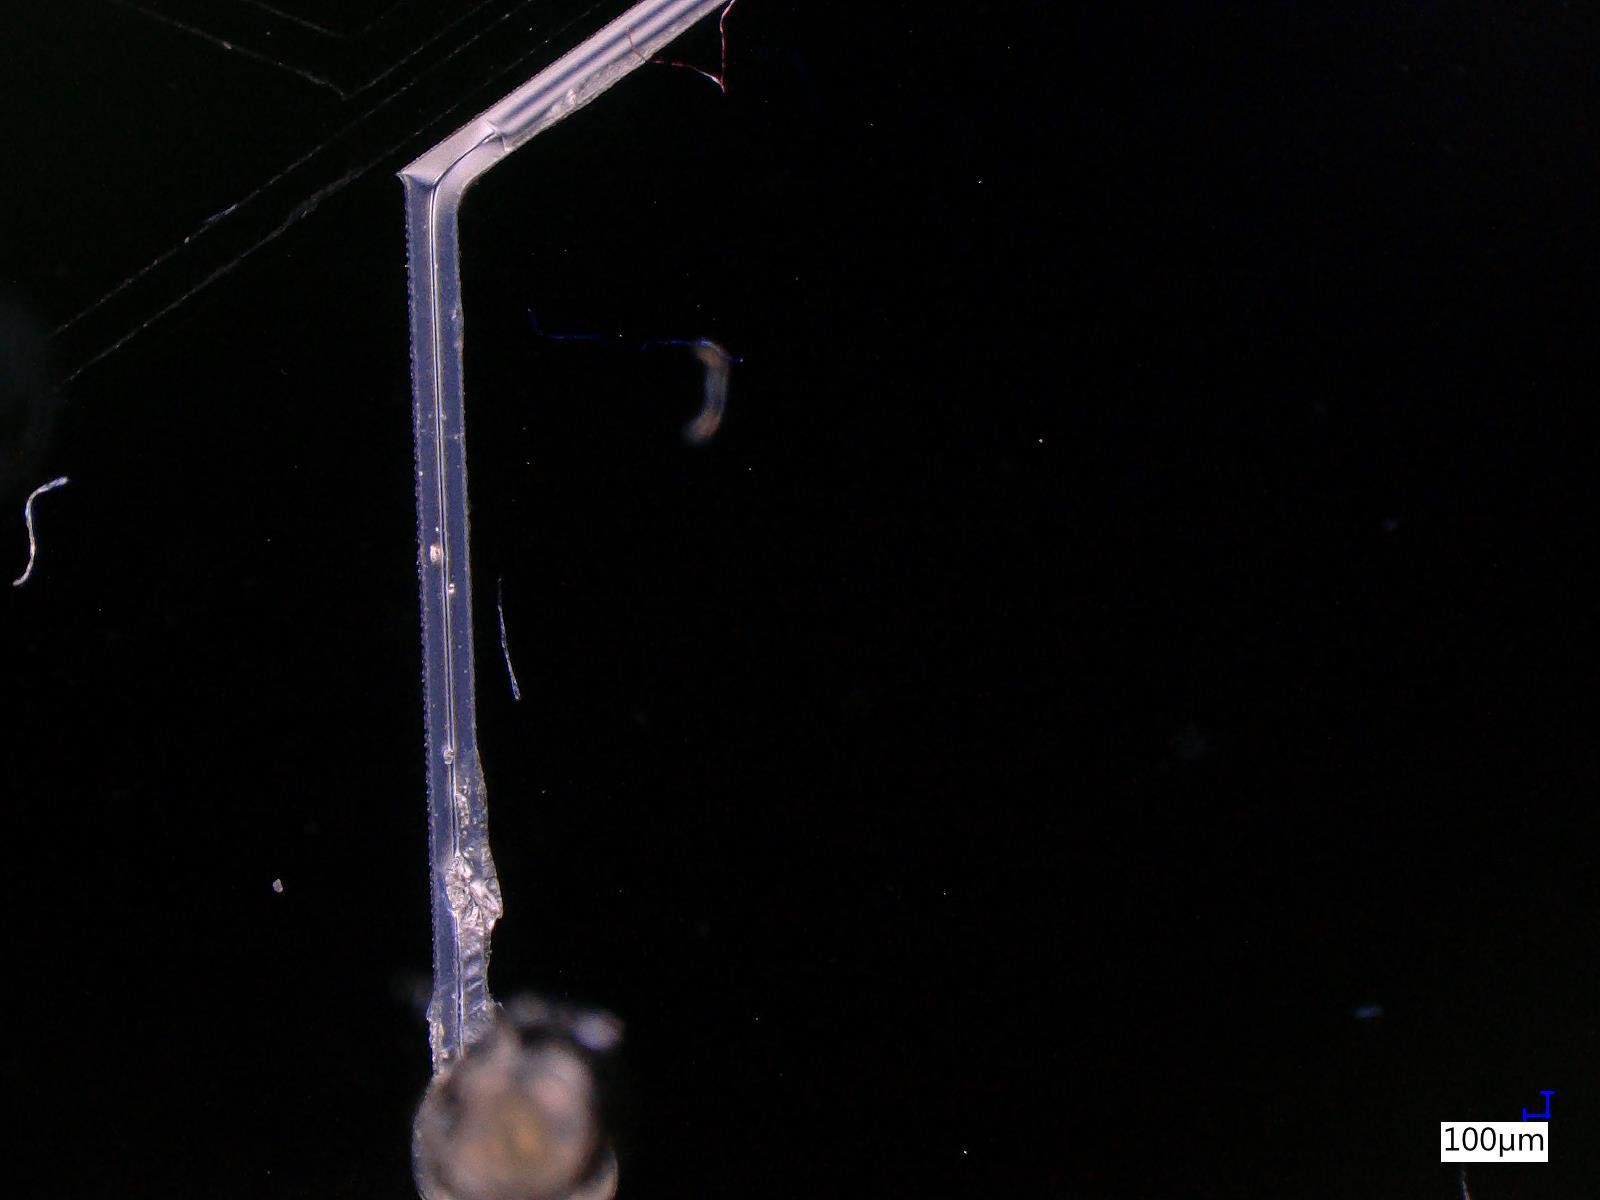sediment: (443, 858, 501, 926)
